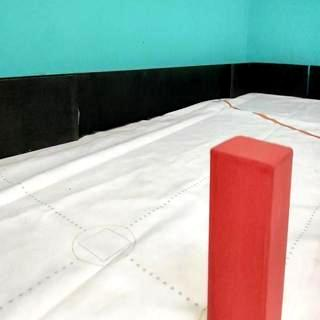redbox: (208, 135, 294, 320)
